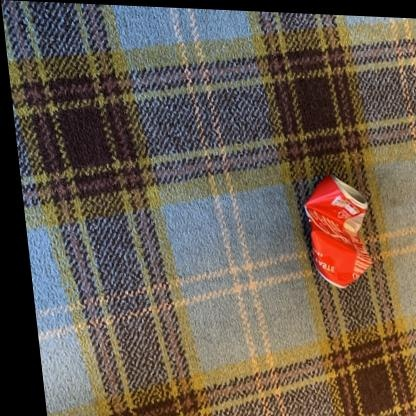trash: (305, 176, 371, 287)
